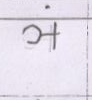anusvara: (46, 5, 49, 8)
